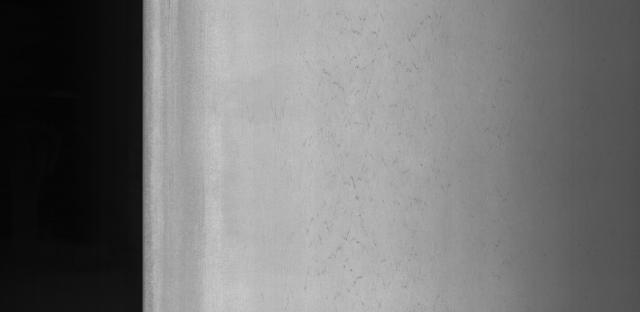silk_spot: (288, 2, 474, 312)
